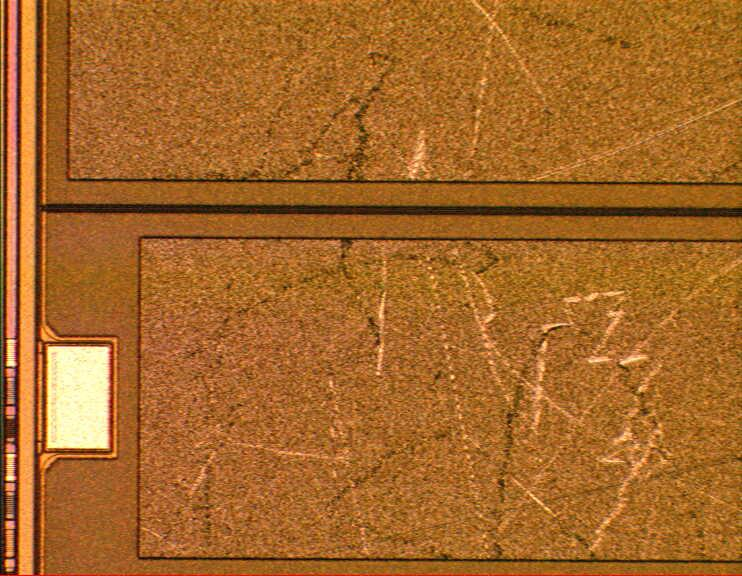SCRATCH: (141, 1, 742, 566)
